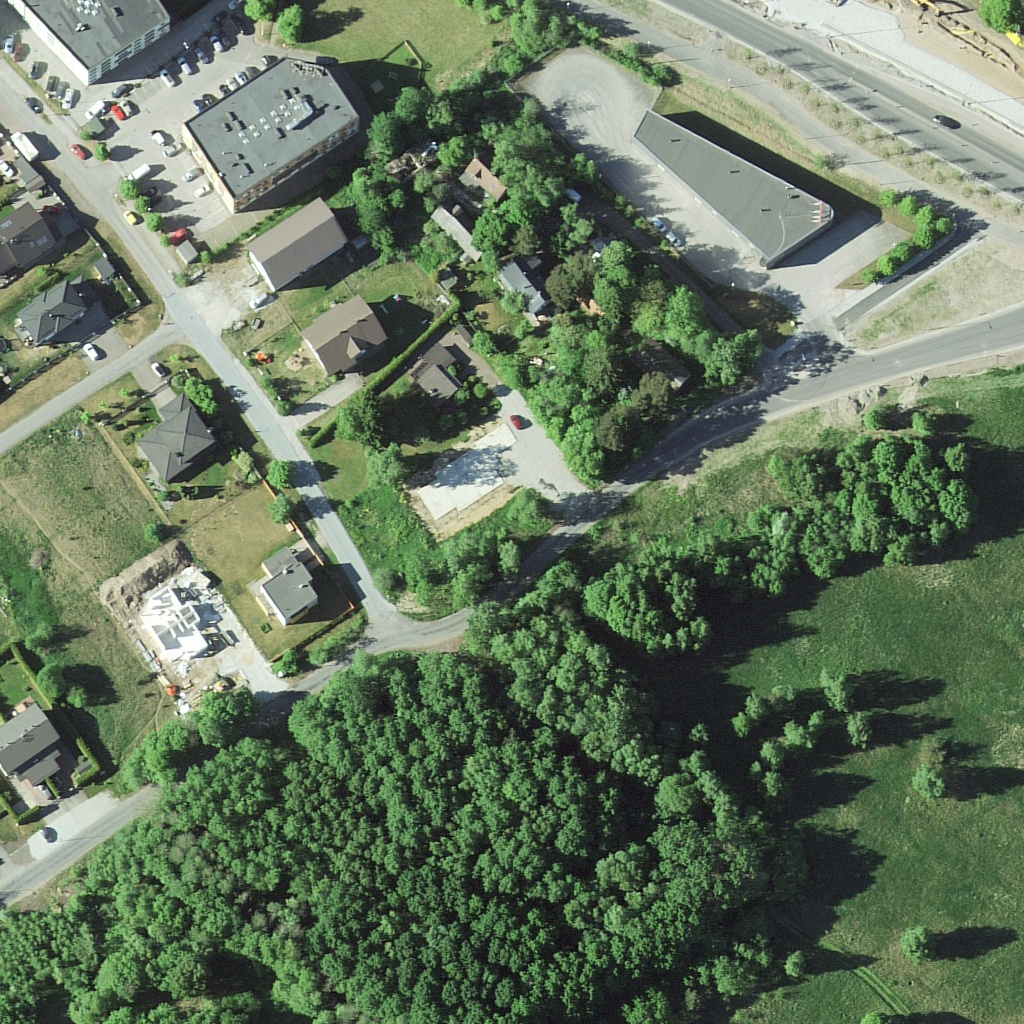building: (638, 108, 842, 266), (188, 50, 352, 212), (237, 197, 350, 305), (30, 1, 172, 83), (309, 293, 384, 384), (148, 391, 216, 482), (265, 538, 321, 625), (4, 708, 63, 786), (1, 203, 64, 272), (18, 283, 83, 346), (422, 349, 469, 413)
